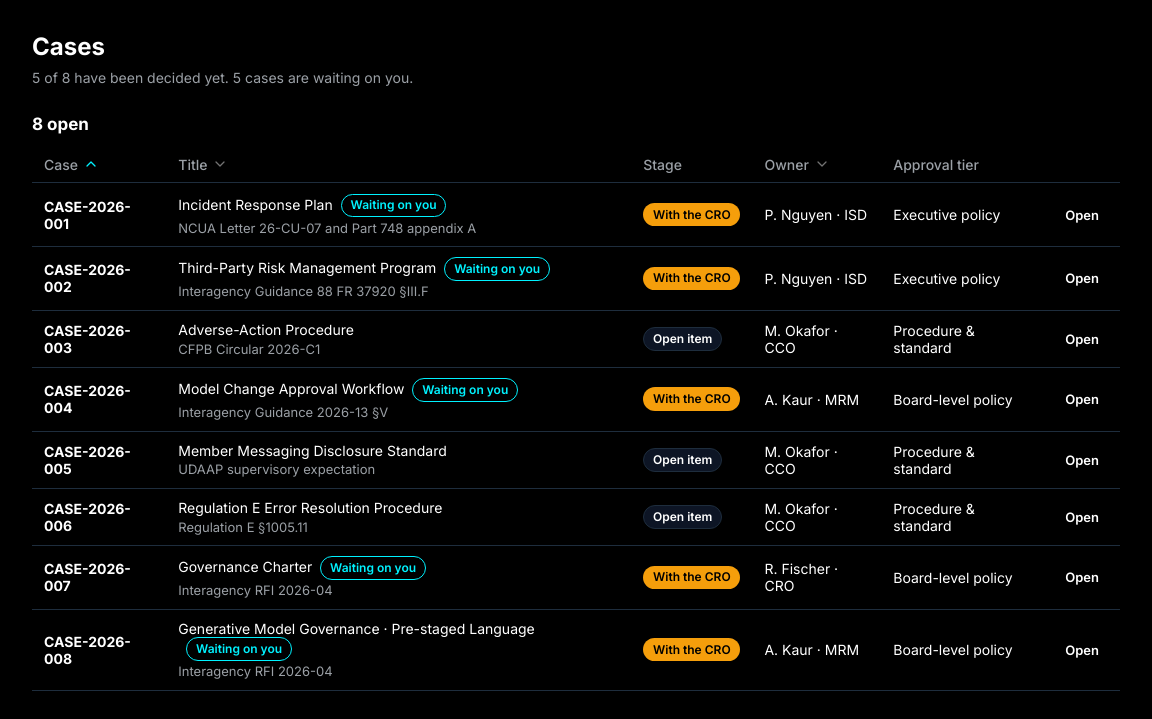
Test case: case-detail role gating (base caseWaitingOn/canAct 2617-2624, osCasePage 2829-2835) › CRO viewing an analyst-owned case sees 'This case is with' and ZERO case-action buttons (base 2835)
Check: the text "CASE-2026-003" is shown, box 44,322 -> 131,356
Click the button "Open" in the row of "CASE-2026-003": (1082, 339) 1056,326 -> 1108,352
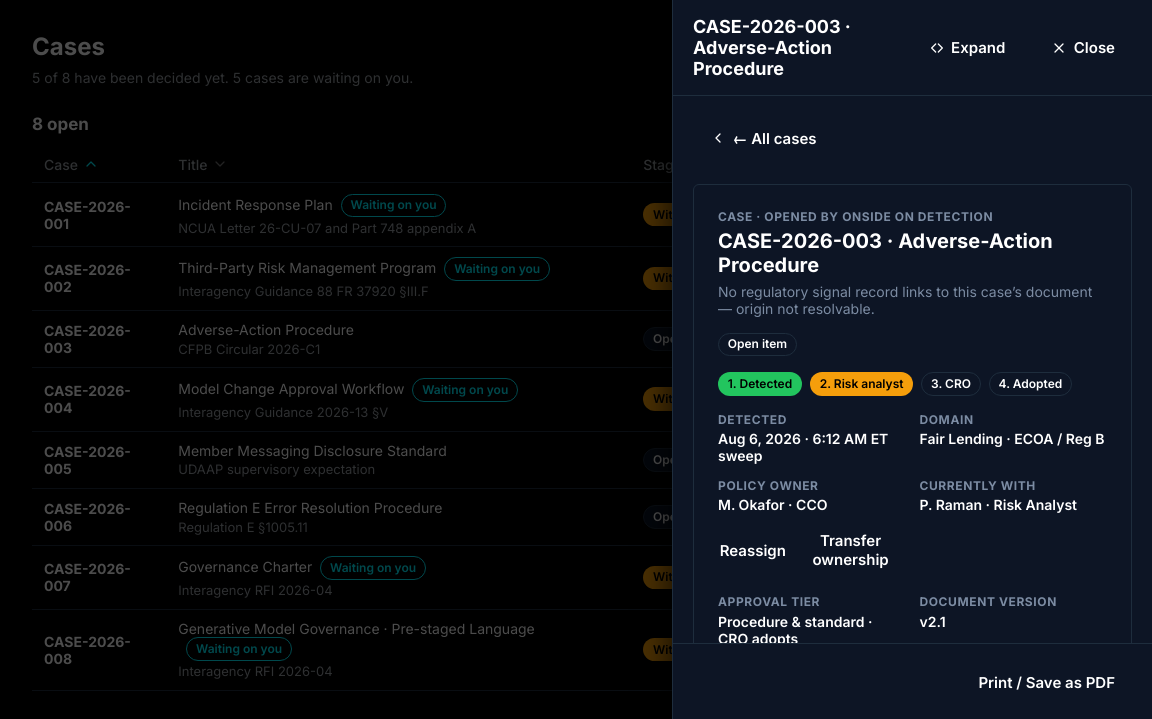
Check: the button "← All cases" is shown, box 693,116 -> 834,160
